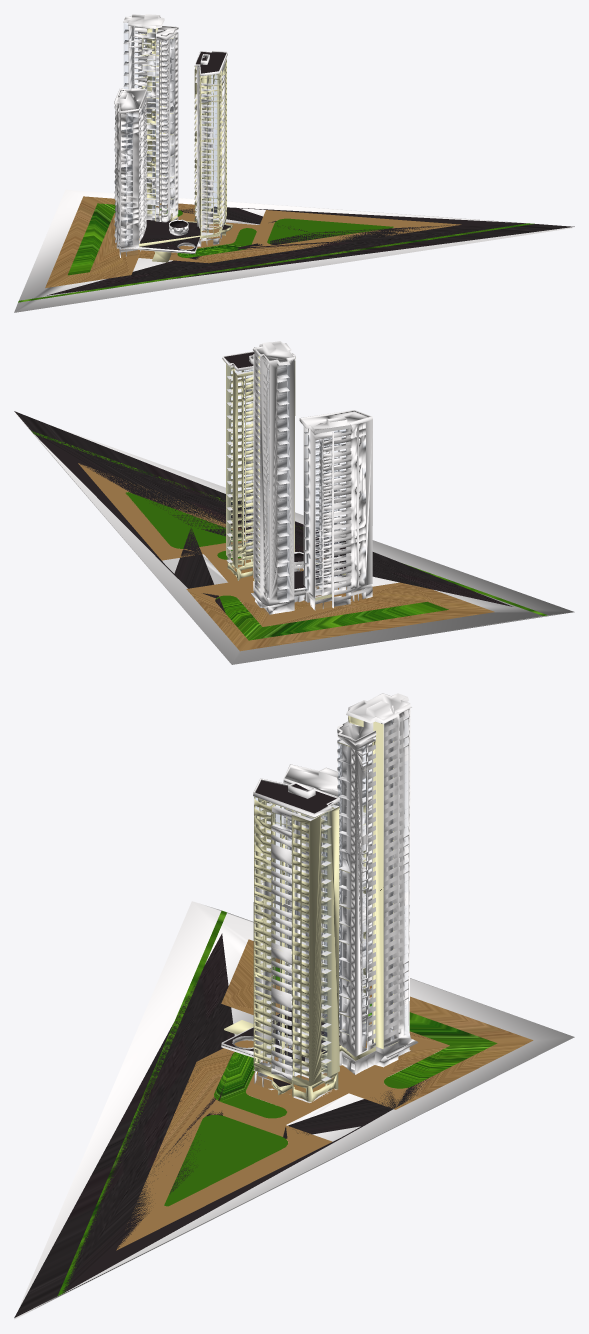
The model's file is building-7.glb.
3 renders of one model, top to bottom at view 1: azimuth 30°, elevation 25°; view 2: azimuth 150°, elevation 25°; view 3: azimuth 270°, elevation 25°, orthographic. The views are drawn at different scales.
Visible parts, largest first — view 1: part_00, part_11, part_02, part_06, part_01, part_04, part_08, part_10, part_09, part_07, part_13; view 2: part_00, part_11, part_02, part_06, part_01, part_04, part_08, part_03, part_07; view 3: part_00, part_11, part_02, part_04, part_06, part_08, part_01, part_09, part_03, part_07, part_13.
Boxes of the visible parts, box(x1,y1,x2,y2) form: part_00: box(14, 14, 574, 312); part_11: box(47, 206, 574, 295); part_02: box(45, 196, 461, 288); part_06: box(18, 203, 534, 302); part_01: box(114, 32, 227, 253); part_04: box(194, 59, 226, 235); part_08: box(142, 67, 225, 246); part_10: box(140, 220, 200, 251); part_09: box(139, 28, 174, 221); part_07: box(139, 213, 232, 262); part_13: box(196, 52, 230, 229); part_00: box(14, 341, 574, 664); part_11: box(14, 411, 512, 612); part_02: box(78, 463, 494, 651); part_06: box(31, 430, 547, 640); part_01: box(222, 351, 366, 609); part_04: box(222, 357, 295, 568); part_08: box(244, 370, 350, 589); part_03: box(227, 366, 338, 598); part_07: box(227, 552, 345, 600); part_00: box(14, 693, 574, 1319); part_11: box(14, 933, 432, 1317); part_02: box(116, 939, 533, 1250); part_04: box(253, 796, 339, 1086); part_06: box(58, 910, 497, 1295); part_08: box(262, 811, 327, 1080); part_01: box(221, 723, 393, 1081); part_09: box(338, 715, 397, 1049); part_03: box(324, 740, 341, 1077); part_07: box(224, 1014, 375, 1101); part_13: box(255, 780, 336, 1086).
Bounding box in the file's own units: 2059 × 813 × 1167.
8 materials, 5 textured.
